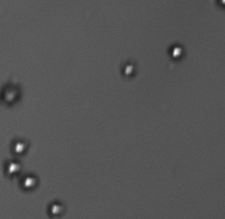Living Cell: (2, 81, 23, 105), (21, 172, 41, 192), (167, 40, 187, 60), (121, 60, 141, 79), (47, 198, 66, 217), (12, 138, 31, 156), (4, 159, 23, 177)
